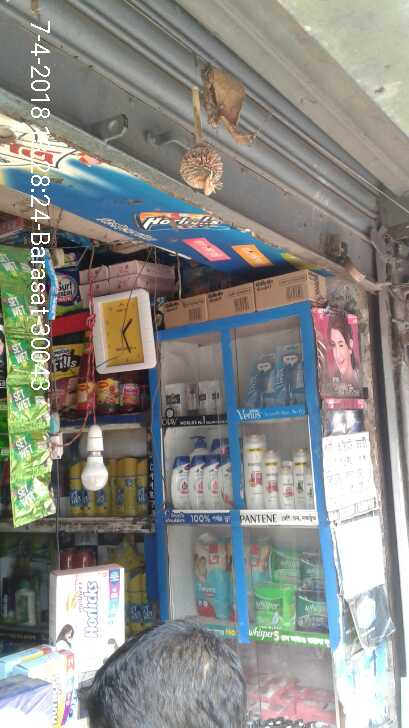venus: (277, 344, 303, 404), (248, 351, 273, 406)
